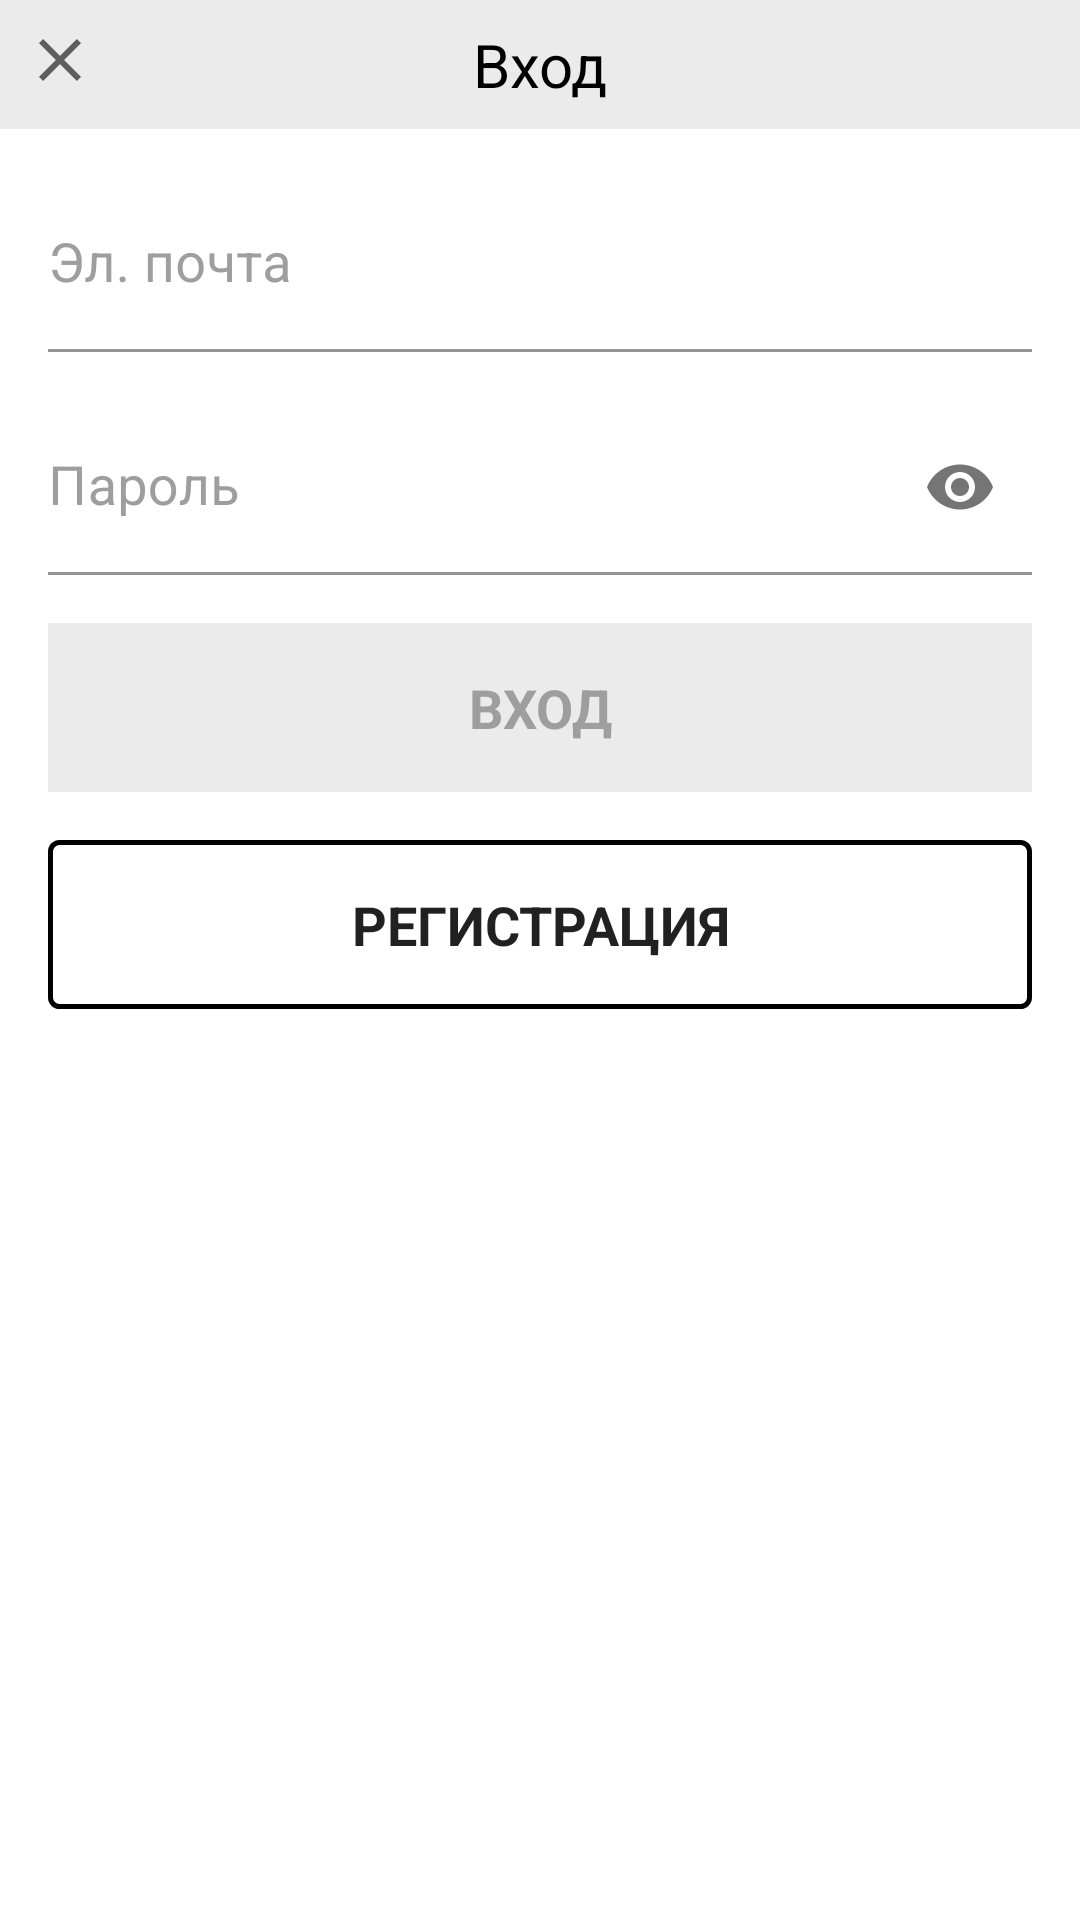

Where to tap for icons on this 1080 × 1920 app screen, as (x=x, y=y):
Кнопка "Закрыть": (x=60, y=60)
